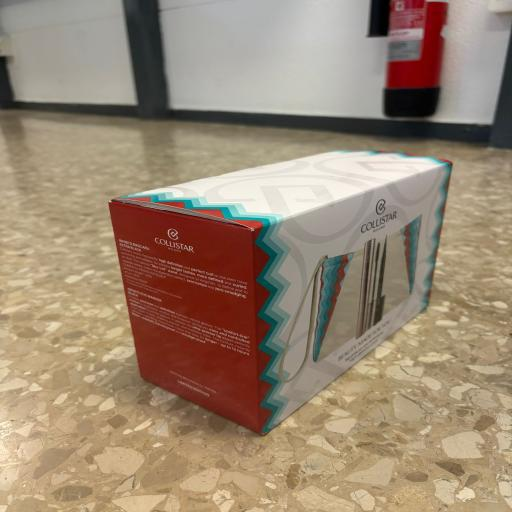caja_1: (110, 152, 450, 433)
